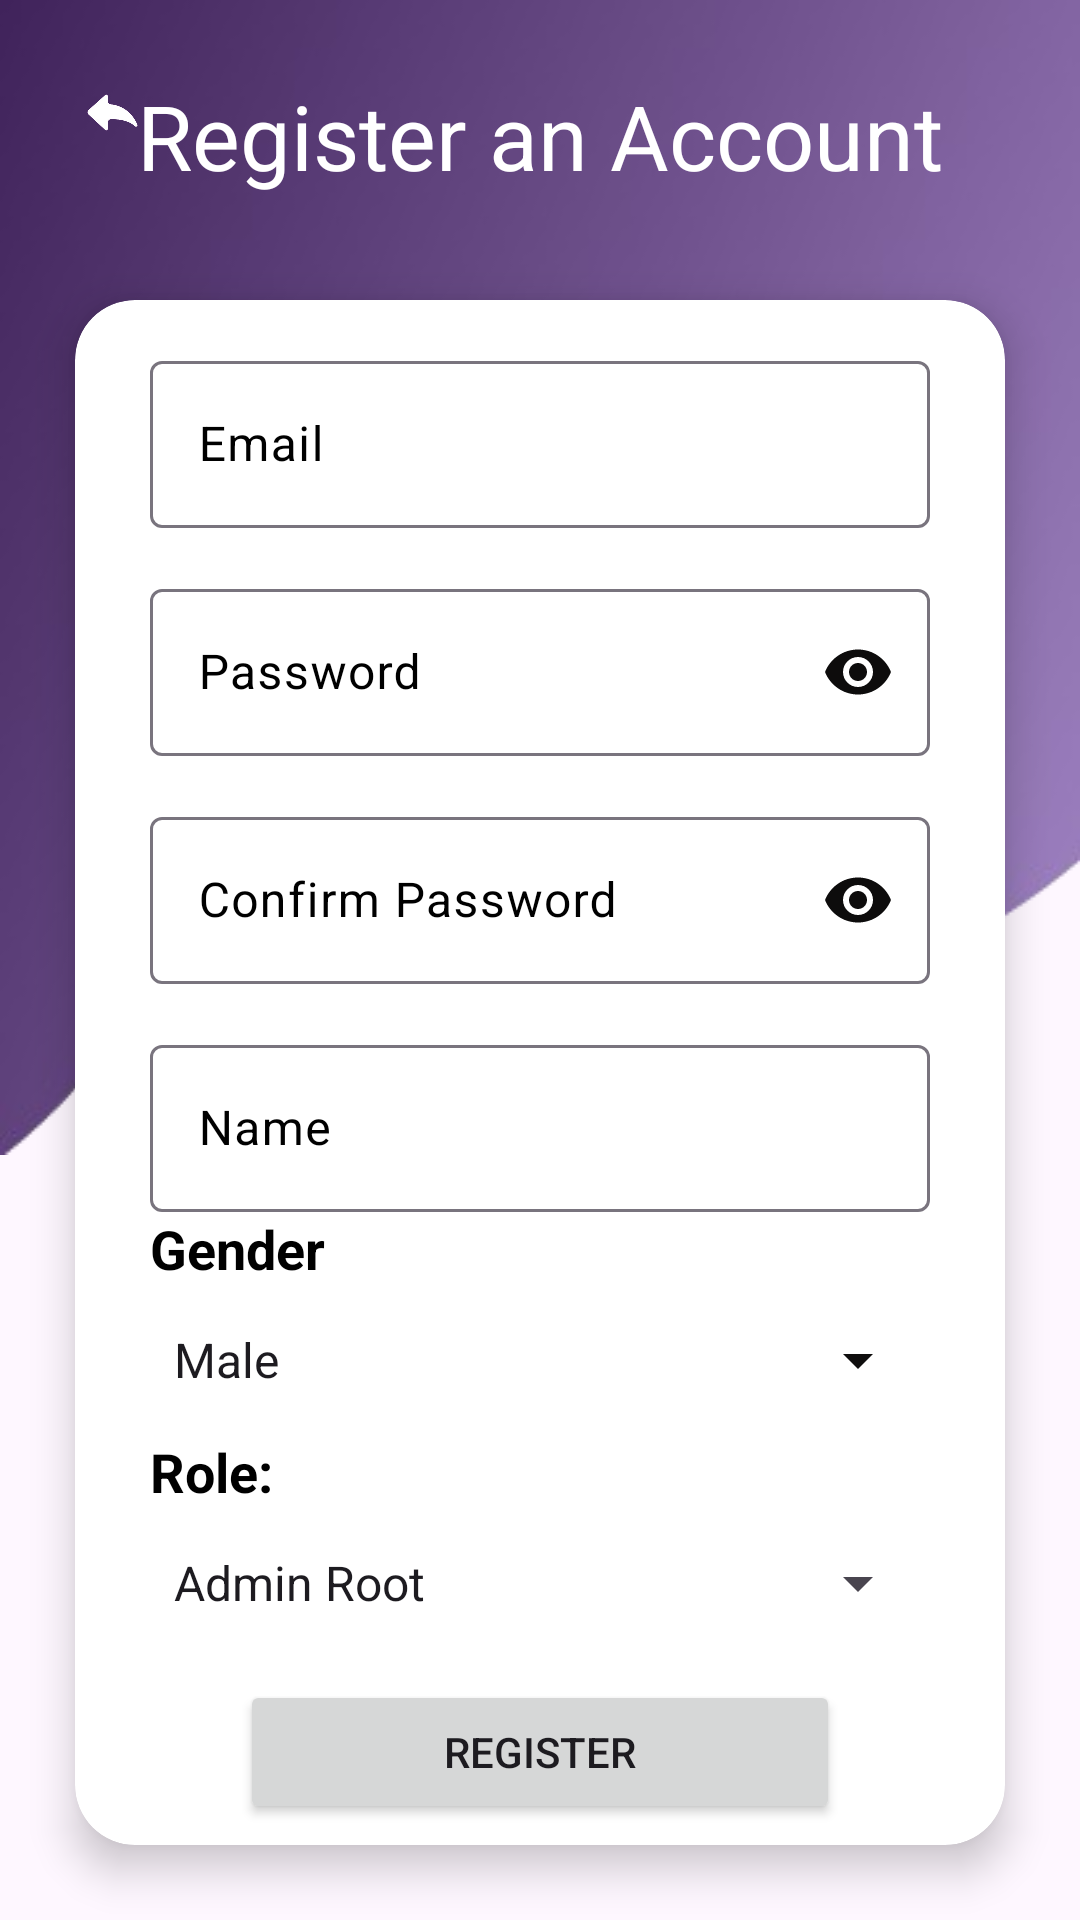

Icon click points for this 1080w x 1920h phone screenshot, format point (x, y):
back: point (112, 112)
